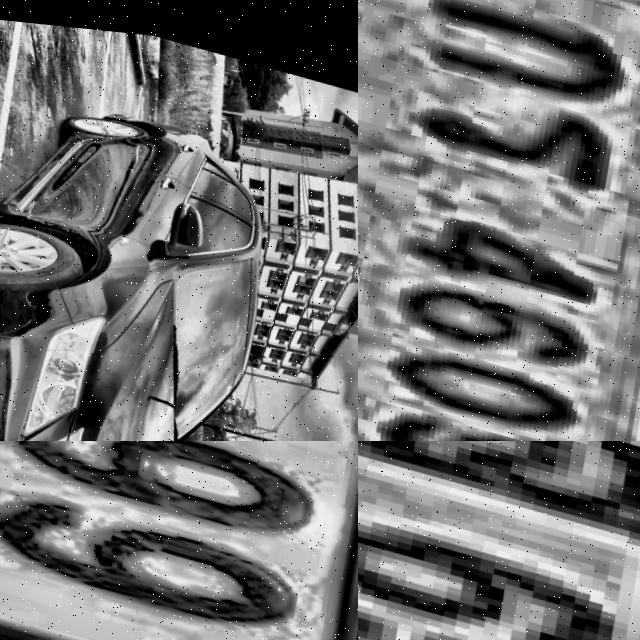license-plate: (358, 0, 640, 441), (0, 441, 358, 640), (358, 441, 640, 640)
